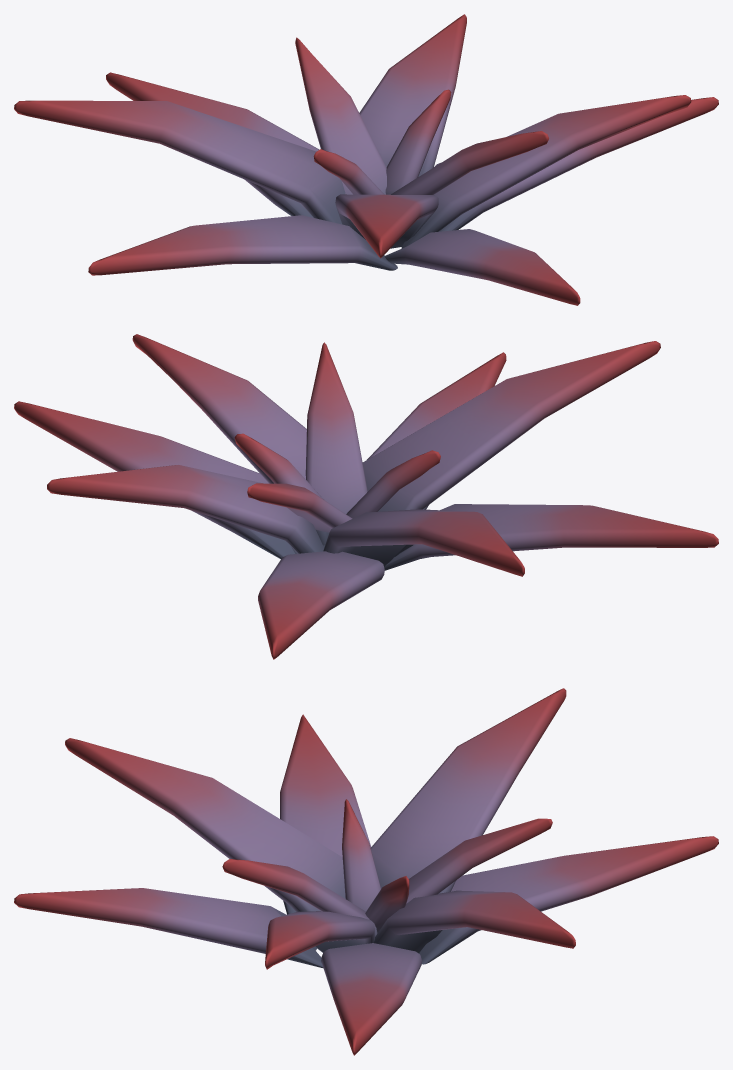
File: Plants_035.fbx
3 renders of one model, top to bottom at view 1: azimuth 30°, elevation 25°; view 2: azimuth 150°, elevation 25°; view 3: azimuth 270°, elevation 25°, orthographic. The views are drawn at different scales.
Parts seen in each view (by area): view 1: Plants.035; view 2: Plants.035; view 3: Plants.035.
Boxes of the visible parts, x1=… form: Plants.035: x1=14, y1=14, x2=718, y2=305; Plants.035: x1=14, y1=334, x2=718, y2=659; Plants.035: x1=14, y1=688, x2=718, y2=1055.
Size of the model in its own units: 934 by 186 by 863.
